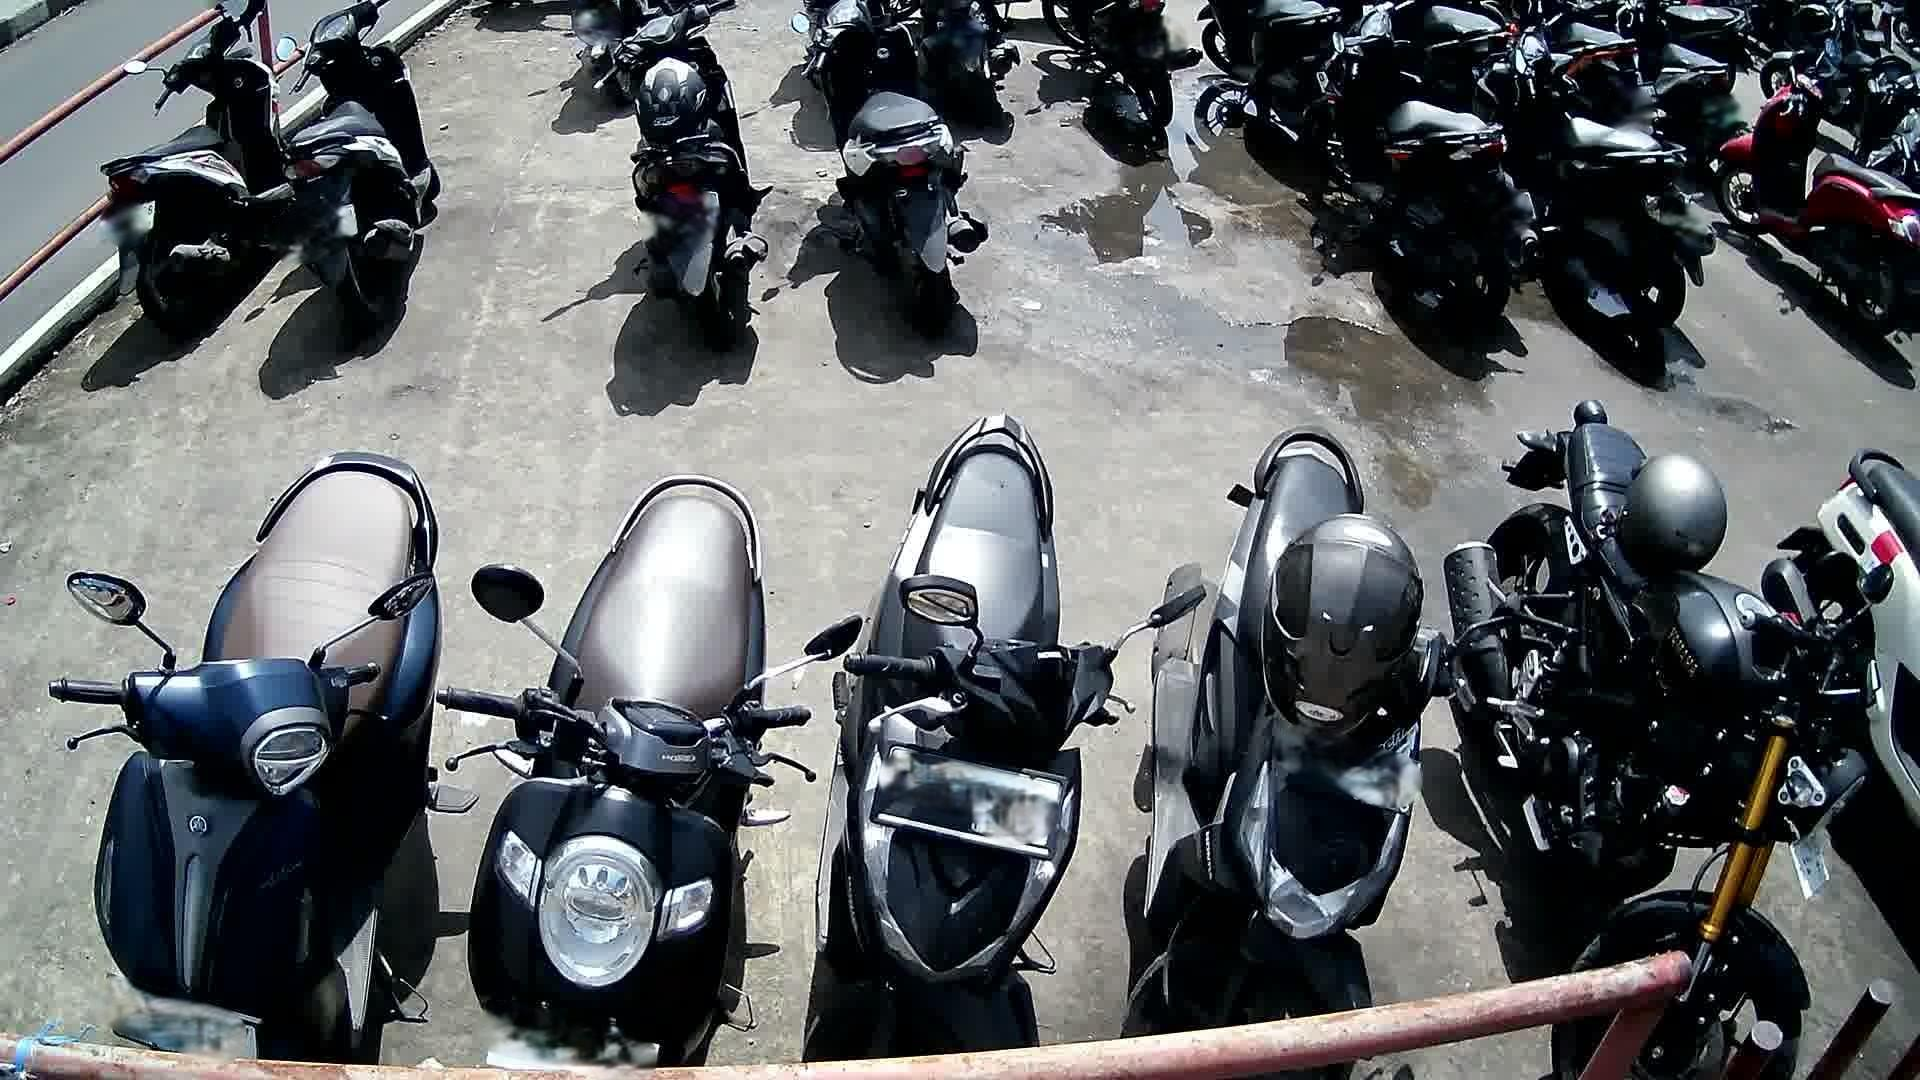motorcycle: (1446, 398, 1893, 1080), (45, 450, 481, 1066), (1121, 425, 1520, 1080), (804, 418, 1205, 1050), (435, 475, 862, 1068), (1465, 4, 1714, 339), (1319, 0, 1543, 338), (791, 0, 990, 338), (594, 0, 777, 353), (98, 0, 293, 330), (1715, 39, 1920, 339), (1763, 454, 1920, 845), (276, 0, 444, 338)
